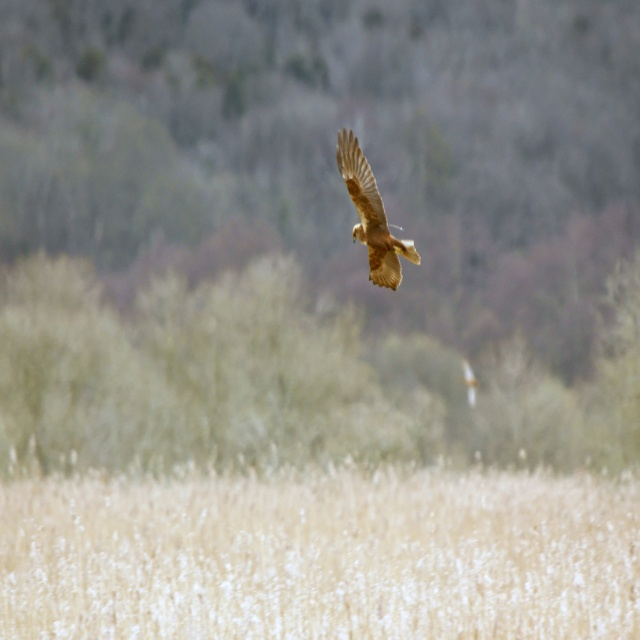Eagle: (335, 127, 421, 292)
